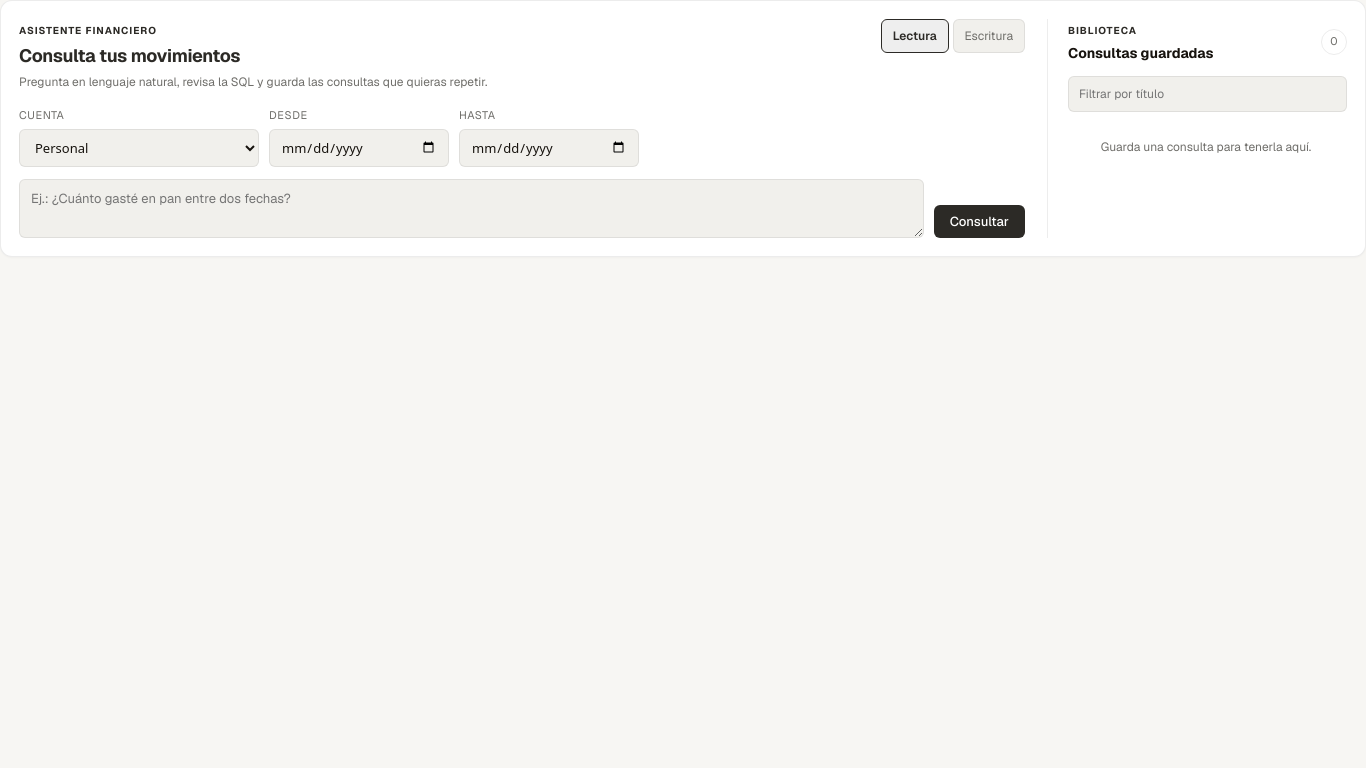
Test case: AssistantPanel › presenta una escritura pendiente y confirma solo su id
This screenshot has width=1366, height=768.
In the text box named "Petición para el asistente": (471, 208) [19,178,924,238], type "Cambia el concepto"
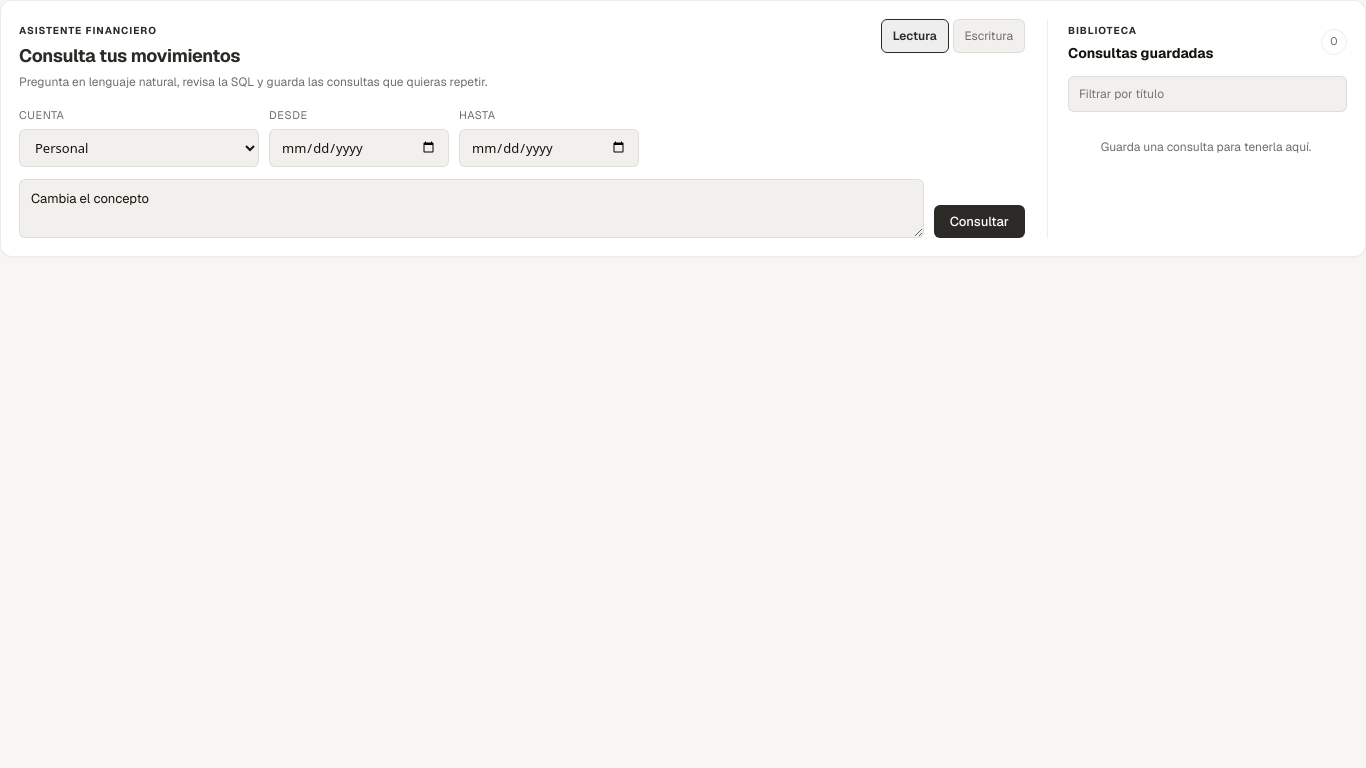
Click the button "Escritura": (989, 36) [953,19,1025,53]
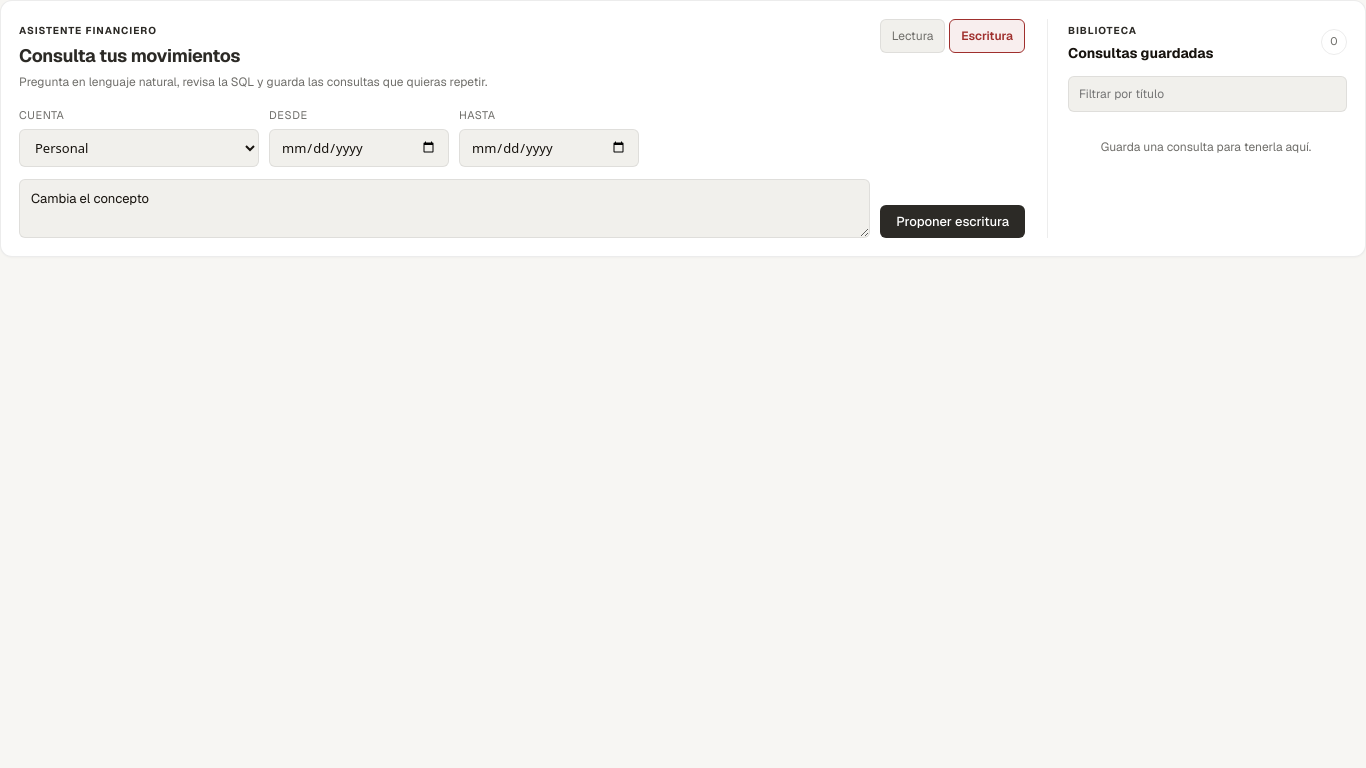
Click the button "Proponer escritura": (953, 221) [880,204,1025,238]
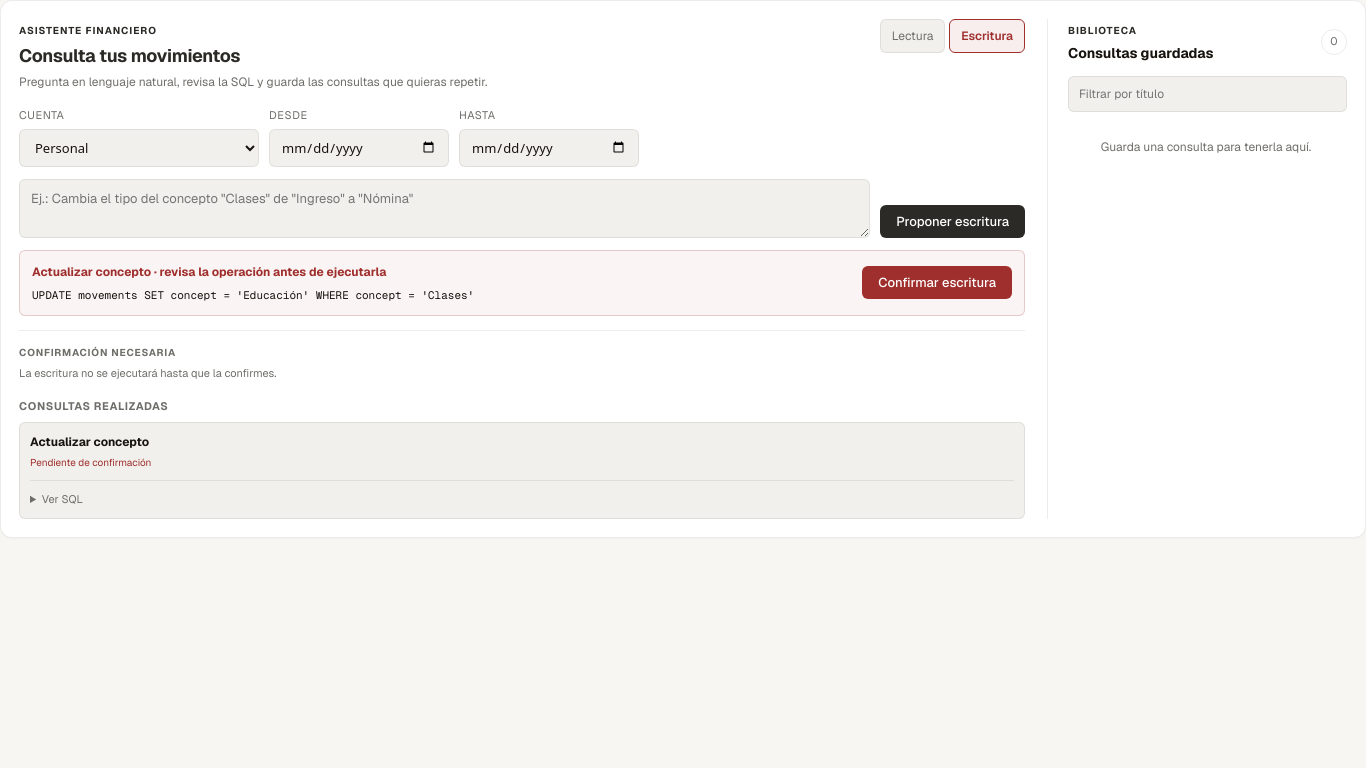
Expected: the text "revisa la operación antes de ejecutarla" is shown, [151,264,386,280]
Click the button "Confirmar escritura": (937, 283) [862,266,1012,299]
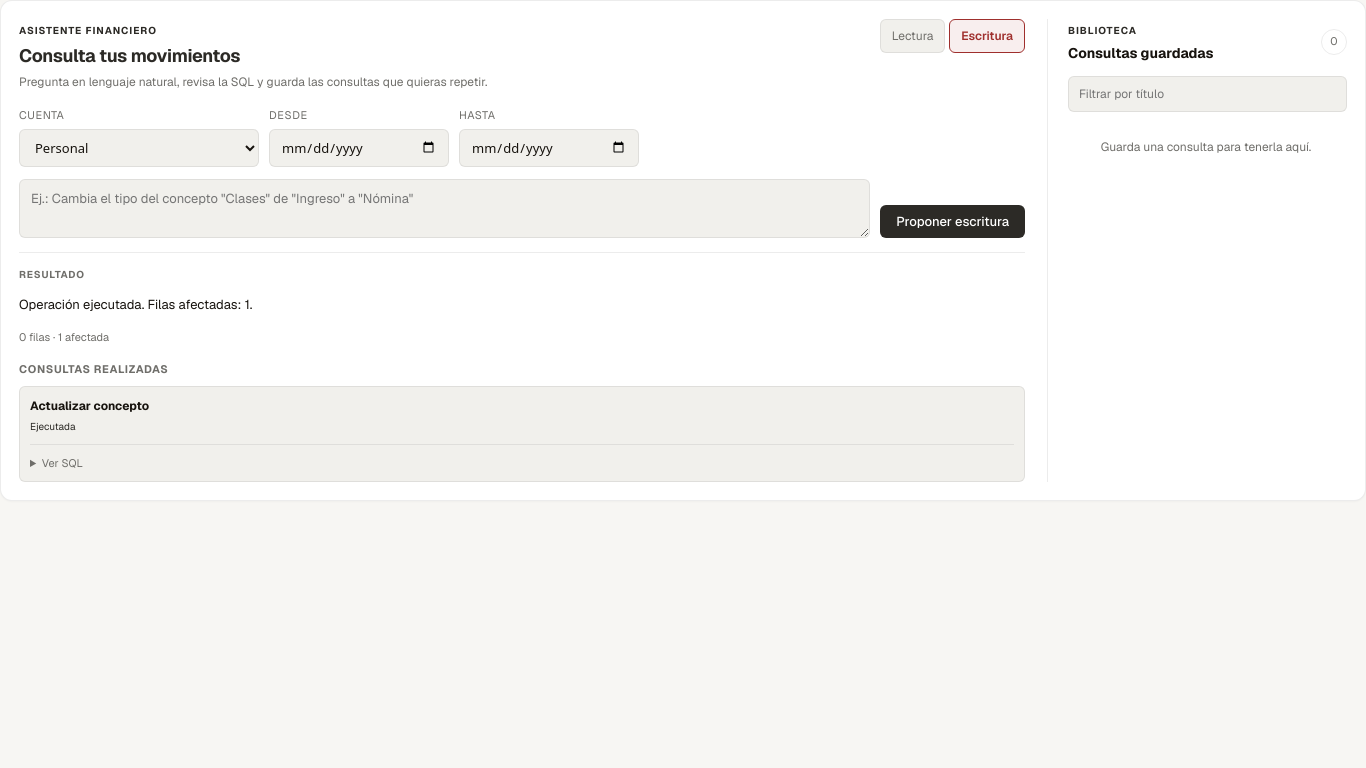
Expected: the text "Operación ejecutada. Filas afectadas: 1." is shown, [19,296,252,312]
